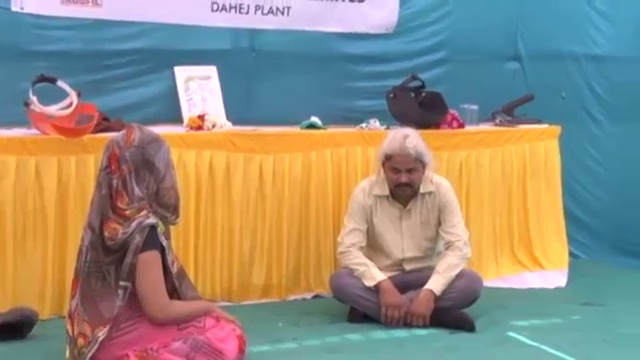helmet_off: (88, 123, 183, 226), (380, 129, 428, 199)
person: (63, 123, 250, 360), (330, 129, 483, 333)
